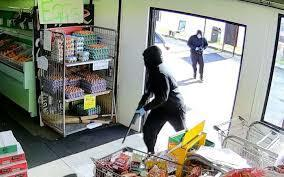weapon: (119, 87, 153, 142)
